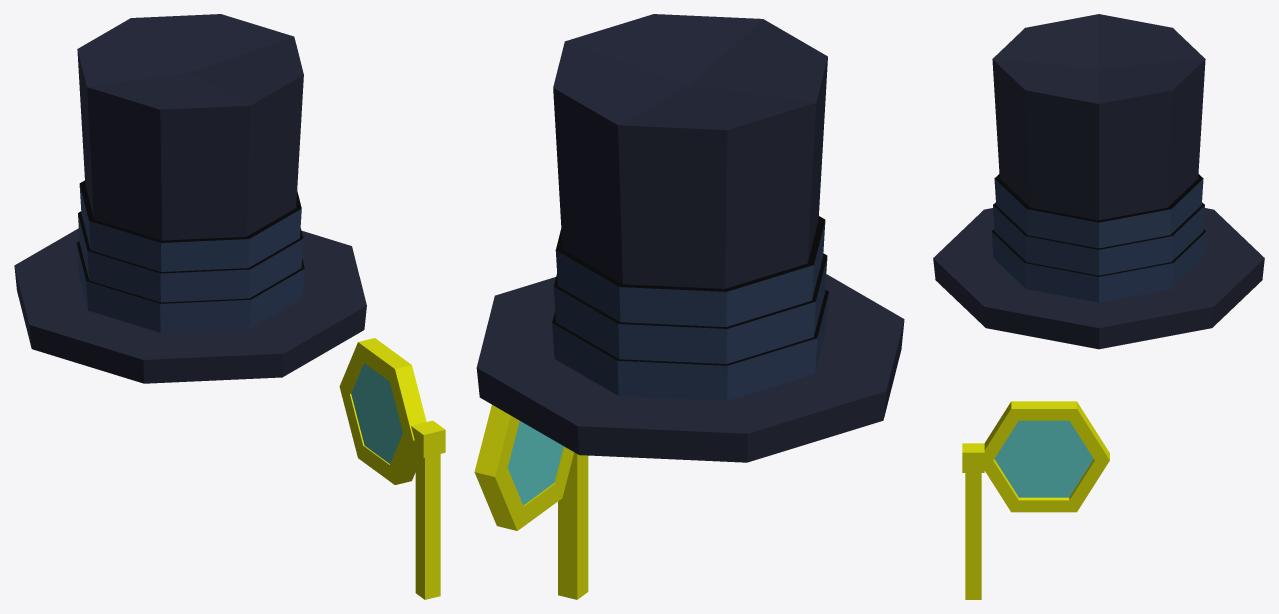
File: experthat.fbx
The picture shows the model from 3 angles, left to right: view 1: azimuth 30°, elevation 25°; view 2: azimuth 150°, elevation 25°; view 3: azimuth 270°, elevation 25°; orthographic projection. The views are drawn at different scales.
Visible parts, largest first — view 1: Cube.015, Cylinder, Cube.016, Cylinder.001; view 2: Cube.015, Cylinder, Cube.016, Cylinder.001; view 3: Cube.015, Cylinder.001, Cylinder, Cube.016.
Boxes of the visible parts, left/top/right/bottom form: Cube.015: left=14, top=14, right=366, bottom=383; Cylinder: left=339, top=338, right=426, bottom=484; Cube.016: left=411, top=420, right=445, bottom=599; Cylinder.001: left=351, top=363, right=402, bottom=463; Cube.015: left=476, top=14, right=904, bottom=462; Cylinder: left=474, top=405, right=573, bottom=530; Cube.016: left=558, top=452, right=588, bottom=599; Cylinder.001: left=507, top=421, right=563, bottom=505; Cube.015: left=933, top=14, right=1264, bottom=349; Cylinder.001: left=994, top=420, right=1093, bottom=497; Cylinder: left=984, top=401, right=1109, bottom=512; Cube.016: left=962, top=443, right=984, bottom=599.
Size of the model in its own units: 239 by 352 by 227.
